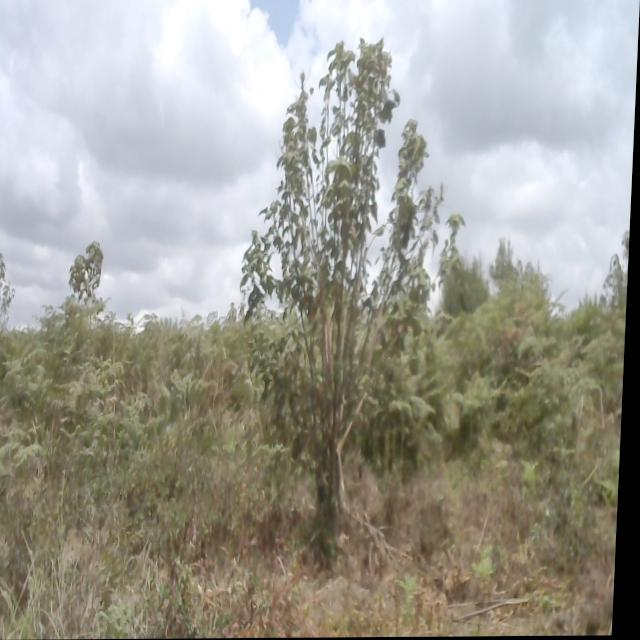other: (234, 23, 471, 531), (68, 237, 112, 310), (0, 248, 22, 336)
